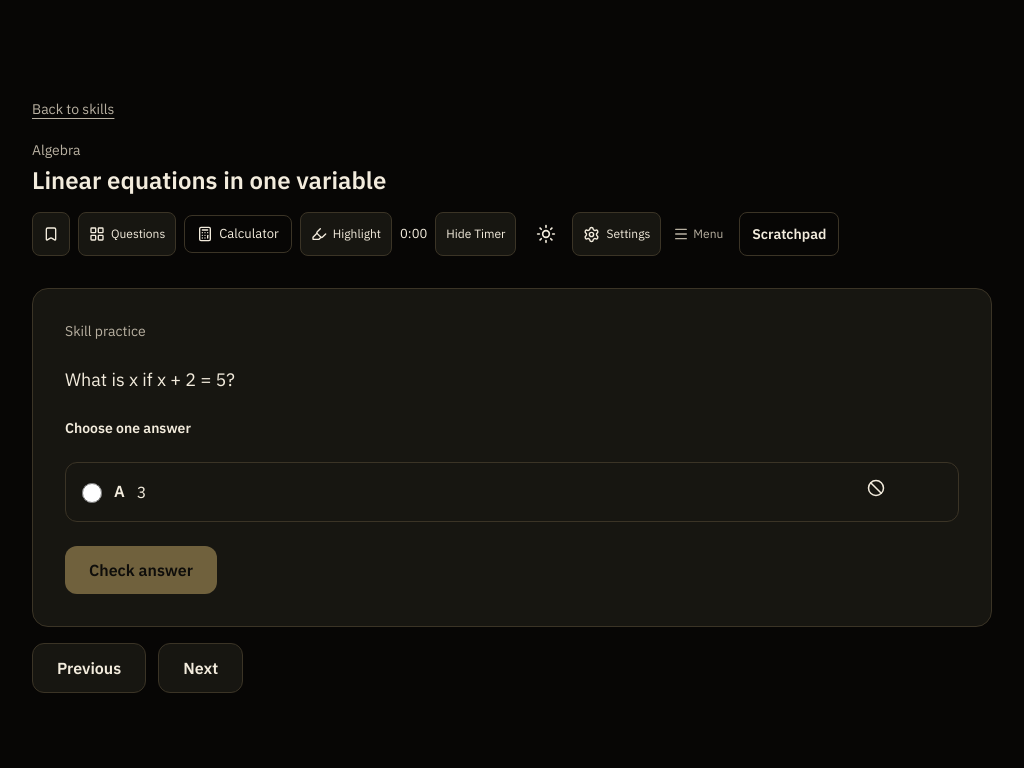
canonical student practice › keeps saved feedback when completion fails and allows a safe retry
Step 1. Click the radio button named "Choice A" → (92,493), box [82,483,102,503]
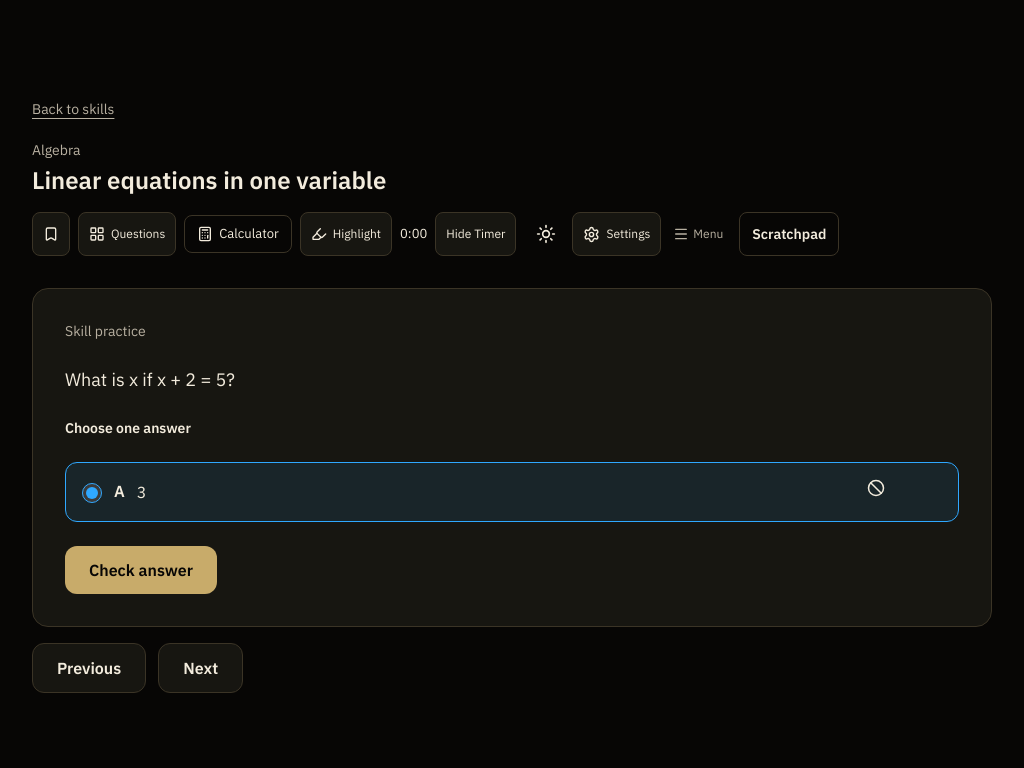
Step 2. Click the button "Check answer" → (141,570), box [65,546,217,594]
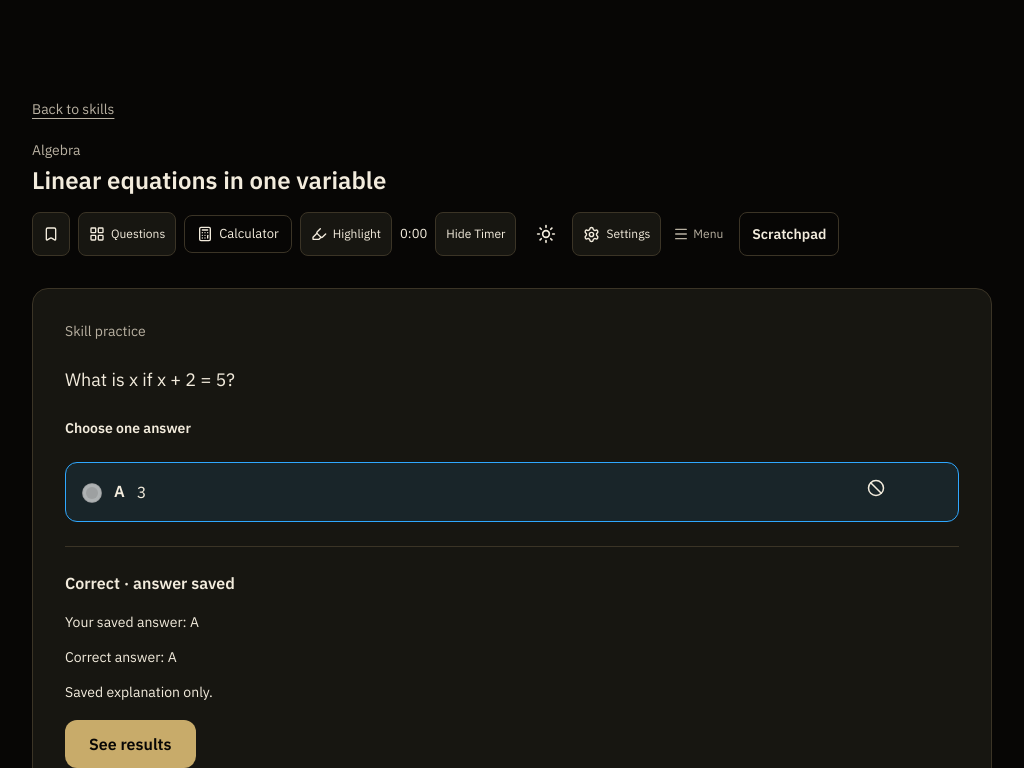
Now the heading "Correct · answer saved" is shown, box [65,573,235,593]
Step 3. Click the button "See results" → (130,744), box [65,720,196,767]
(page scrolled)
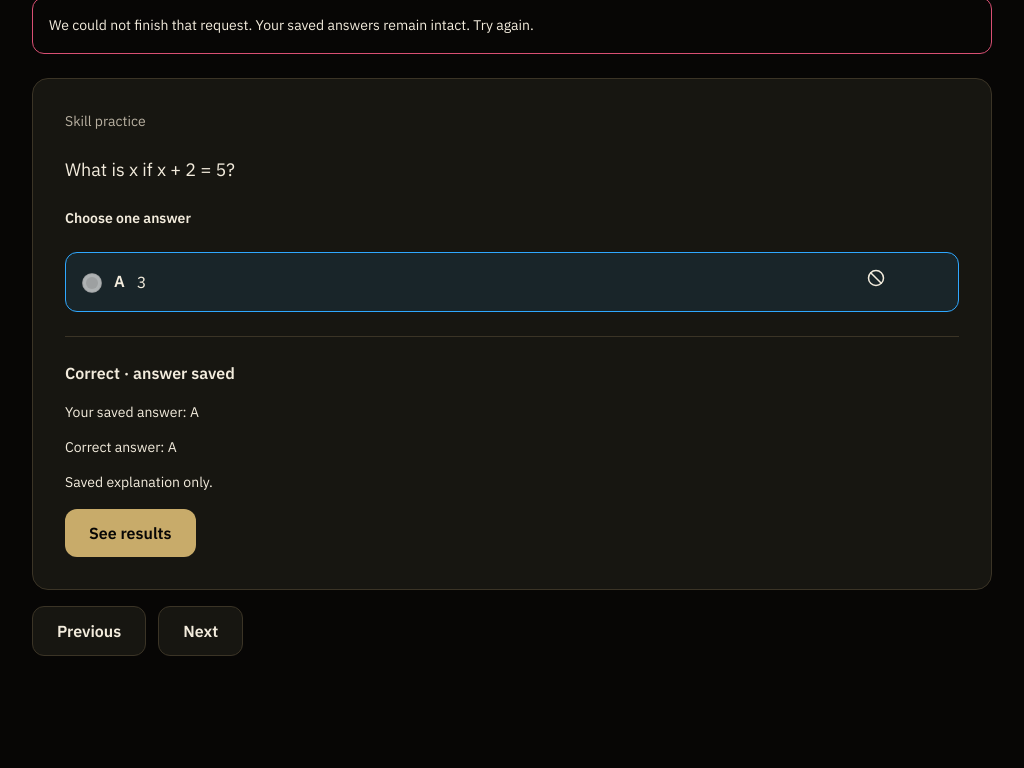
Now the heading "Correct · answer saved" is shown, box [65,363,235,383]
Step 4. Click the button "See results" → (130,533), box [65,509,196,557]
(page scrolled)
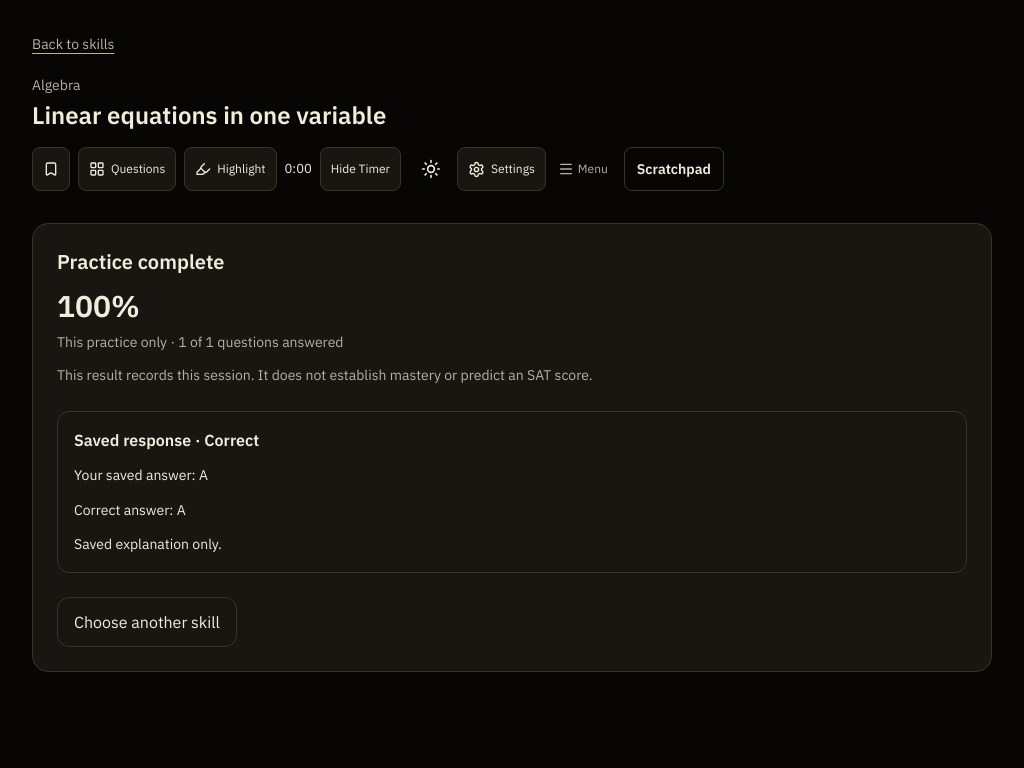
Now the heading "Practice complete" is shown, box [57,248,224,275]
